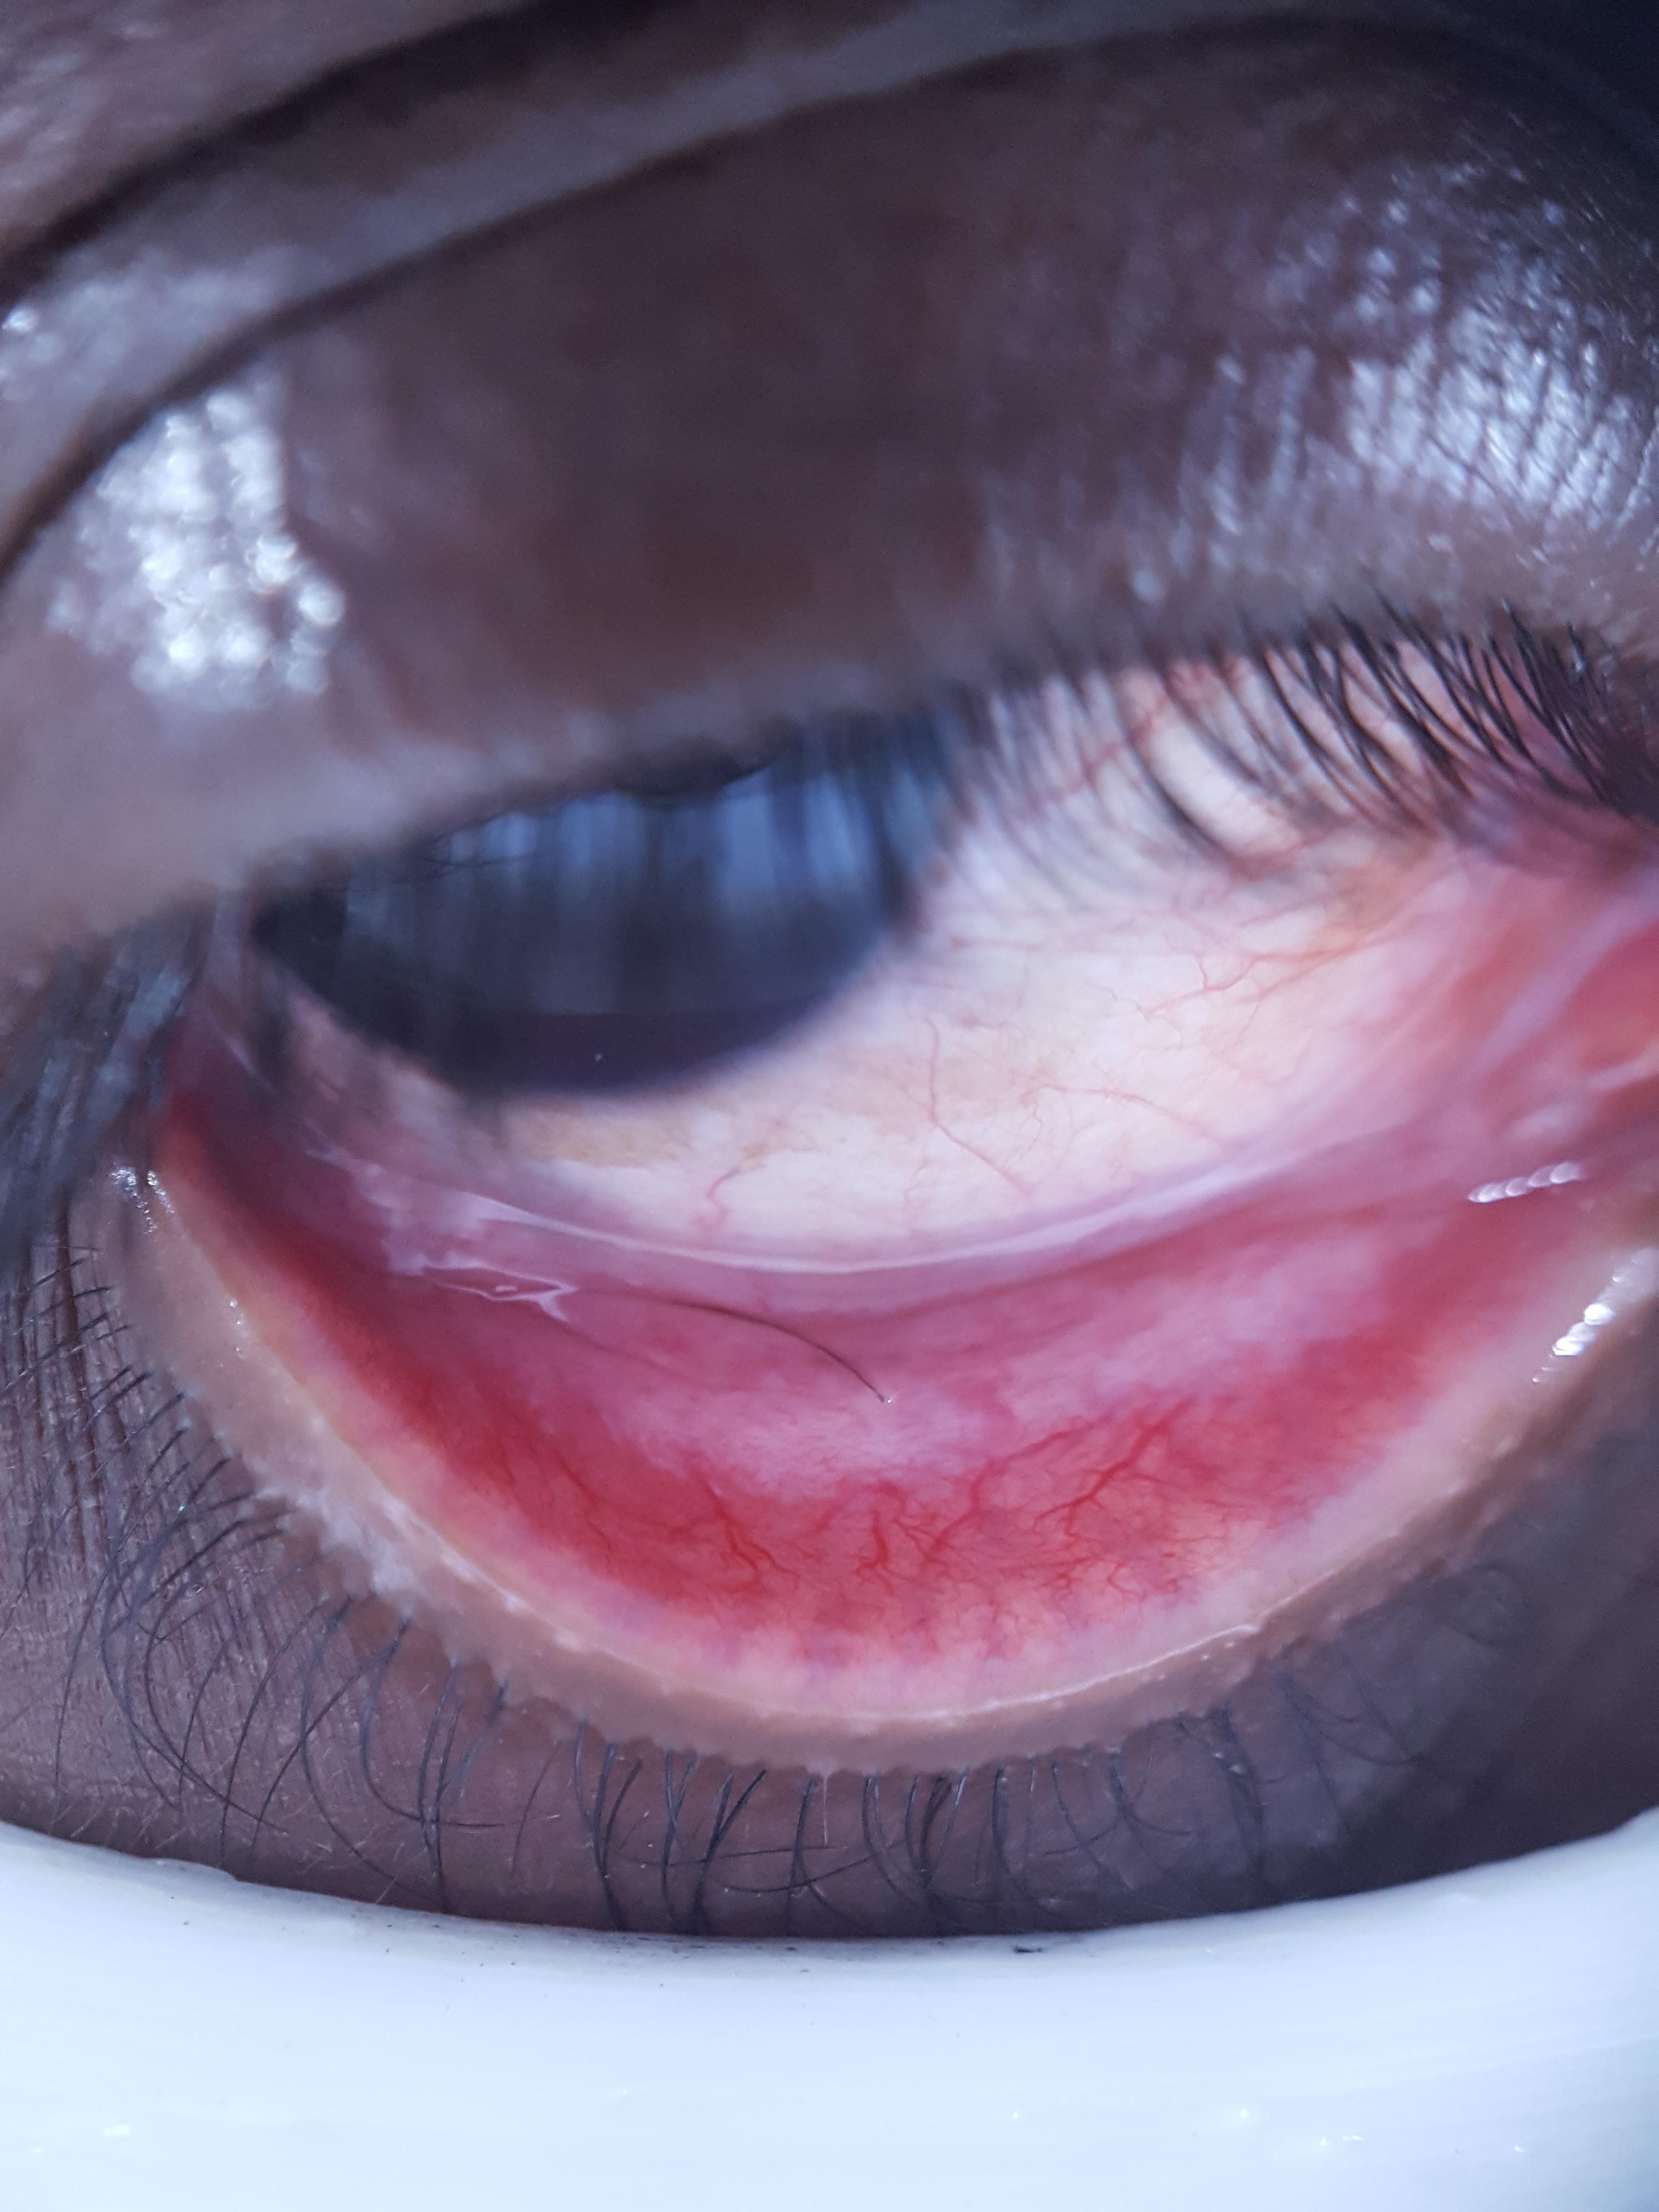forniceal: (293, 1096, 1546, 1494)
forniceal_palpebral: (239, 1078, 1582, 1655)
palpebral: (253, 1205, 1574, 1642)
